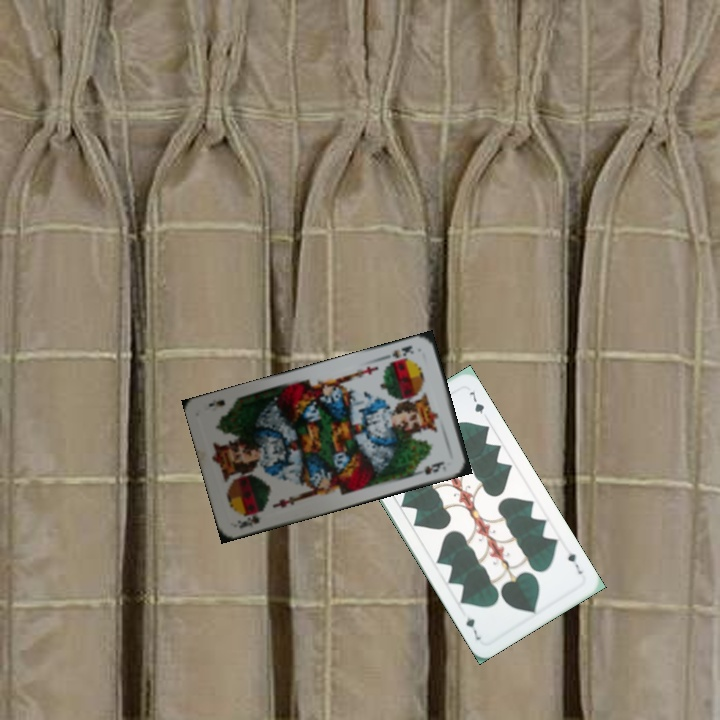G7: (564, 548, 585, 577)
SK: (380, 341, 416, 366), (233, 506, 267, 531)
